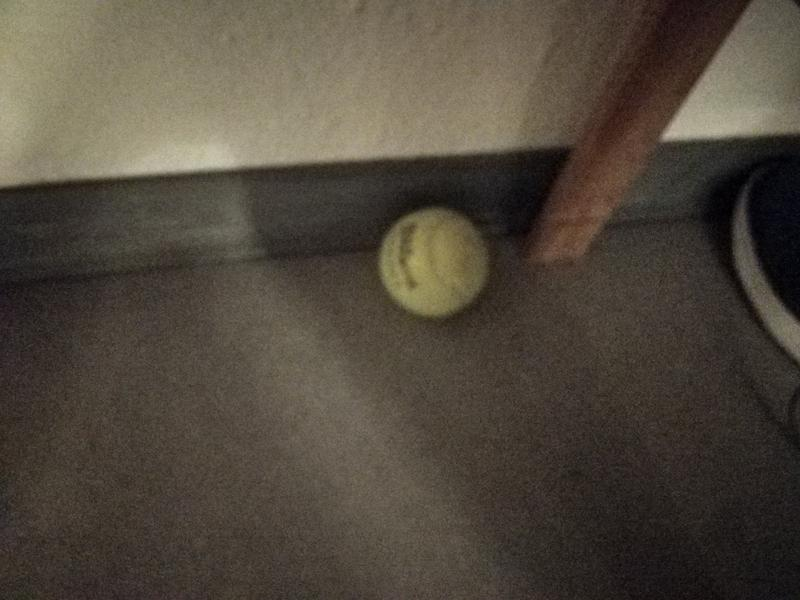Tennisball: (375, 203, 494, 322)
